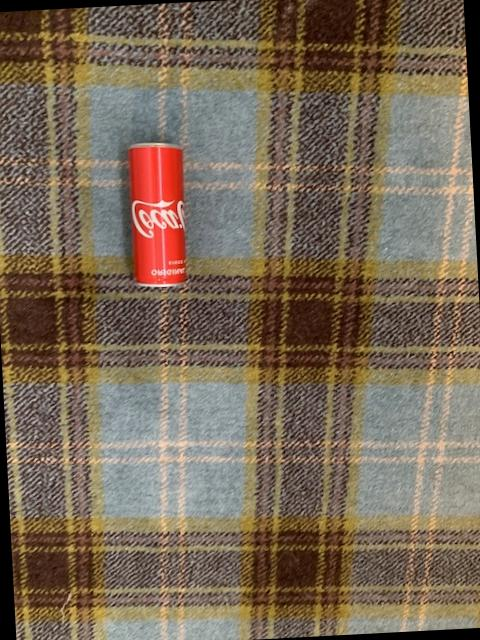metal: (130, 142, 187, 285)
